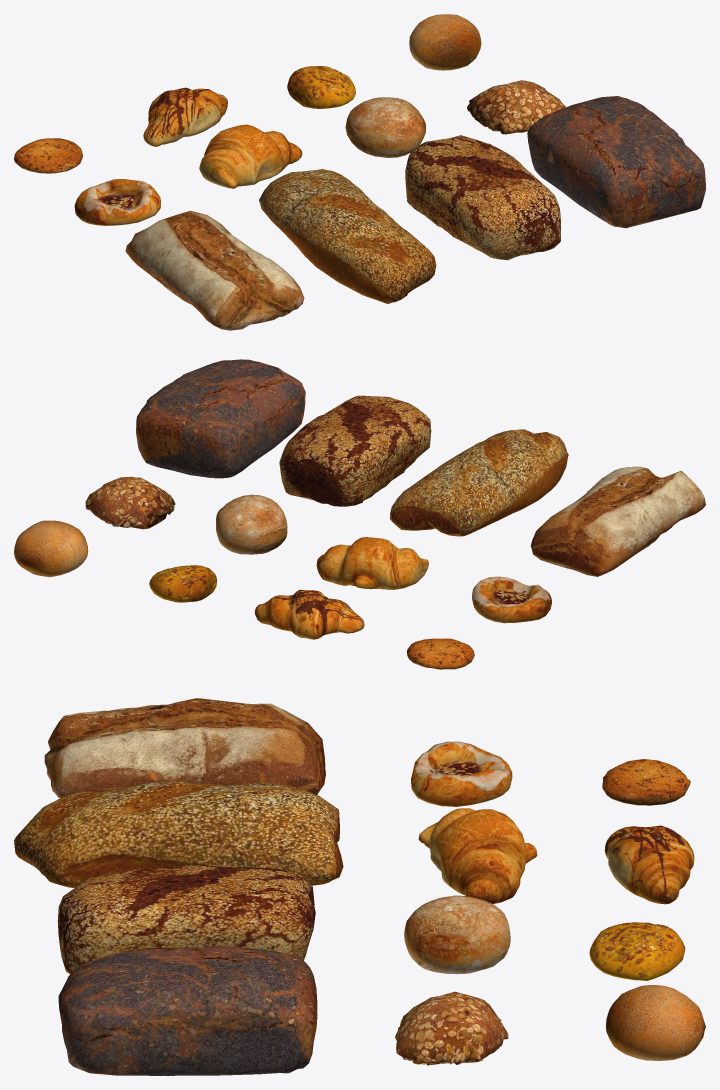
Rendered from cafe_baked-goods_rigsters.glb.
3 views of the same model, one above another, from view 1: azimuth 30°, elevation 25°; view 2: azimuth 150°, elevation 25°; view 3: azimuth 270°, elevation 25° (orthographic). The views are drawn at different scales.
Parts seen in each view (by area): view 1: bread-1_bread-1_0, bread-3_bread-2_0, bread-2_bread-3_0, bread-4_bread-4_0, pastry-1_pastry-1_0, bread-roll-2_bread-roll-2_0, pastry-2_pastry-2_0, bread-roll-1_bread-roll-1_0, bread-roll-3_bread-roll-3_0, pastry-3_pastry-3_0, bread-roll-4_bread-roll-4_0, pastry-4_pastry-4_0; view 2: bread-1_bread-1_0, bread-3_bread-2_0, bread-2_bread-3_0, bread-4_bread-4_0, pastry-1_pastry-1_0, pastry-2_pastry-2_0, bread-roll-2_bread-roll-2_0, bread-roll-1_bread-roll-1_0, bread-roll-3_bread-roll-3_0, pastry-3_pastry-3_0, bread-roll-4_bread-roll-4_0, pastry-4_pastry-4_0; view 3: bread-1_bread-1_0, bread-2_bread-3_0, bread-4_bread-4_0, bread-3_bread-2_0, pastry-1_pastry-1_0, bread-roll-2_bread-roll-2_0, bread-roll-1_bread-roll-1_0, bread-roll-3_bread-roll-3_0, pastry-2_pastry-2_0, pastry-3_pastry-3_0, bread-roll-4_bread-roll-4_0, pastry-4_pastry-4_0.
Part boxes in pixels (<box>): bread-1_bread-1_0: <box>527,96,705,228</box>; bread-3_bread-2_0: <box>405,135,560,260</box>; bread-2_bread-3_0: <box>259,169,436,303</box>; bread-4_bread-4_0: <box>125,210,304,330</box>; pastry-1_pastry-1_0: <box>199,124,302,188</box>; bread-roll-2_bread-roll-2_0: <box>345,97,425,157</box>; pastry-2_pastry-2_0: <box>143,87,227,146</box>; bread-roll-1_bread-roll-1_0: <box>467,80,566,134</box>; bread-roll-3_bread-roll-3_0: <box>409,14,481,70</box>; pastry-3_pastry-3_0: <box>74,179,160,225</box>; bread-roll-4_bread-roll-4_0: <box>287,66,355,108</box>; pastry-4_pastry-4_0: <box>14,138,82,173</box>; bread-1_bread-1_0: <box>136,359,305,478</box>; bread-3_bread-2_0: <box>279,395,431,506</box>; bread-2_bread-3_0: <box>390,429,568,536</box>; bread-4_bread-4_0: <box>530,466,705,576</box>; pastry-1_pastry-1_0: <box>316,537,428,589</box>; pastry-2_pastry-2_0: <box>254,589,364,639</box>; bread-roll-2_bread-roll-2_0: <box>216,494,287,554</box>; bread-roll-1_bread-roll-1_0: <box>85,476,175,529</box>; bread-roll-3_bread-roll-3_0: <box>14,520,88,577</box>; pastry-3_pastry-3_0: <box>472,576,551,623</box>; bread-roll-4_bread-roll-4_0: <box>149,565,216,602</box>; pastry-4_pastry-4_0: <box>407,638,474,669</box>; bread-1_bread-1_0: <box>58,946,317,1075</box>; bread-2_bread-3_0: <box>14,780,343,887</box>; bread-4_bread-4_0: <box>44,698,325,798</box>; bread-3_bread-2_0: <box>57,864,315,973</box>; pastry-1_pastry-1_0: <box>418,808,537,903</box>; bread-roll-2_bread-roll-2_0: <box>404,895,510,974</box>; bread-roll-1_bread-roll-1_0: <box>395,991,508,1065</box>; bread-roll-3_bread-roll-3_0: <box>606,985,705,1060</box>; pastry-2_pastry-2_0: <box>604,825,694,904</box>; pastry-3_pastry-3_0: <box>411,741,512,806</box>; bread-roll-4_bread-roll-4_0: <box>589,922,685,980</box>; pastry-4_pastry-4_0: <box>602,759,690,805</box>.
Bounding box in the file's own units: 550 × 68.71 × 491.
12 materials, 12 textured.
